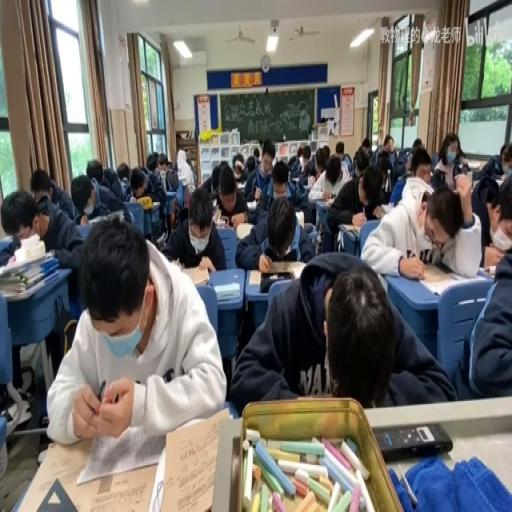calculator: (9, 432, 144, 510), (156, 405, 232, 509), (416, 260, 468, 294), (249, 260, 306, 282), (178, 260, 210, 284), (214, 282, 240, 300), (234, 222, 253, 240), (88, 213, 115, 225), (338, 222, 360, 235), (312, 195, 334, 206), (482, 264, 498, 278), (158, 171, 168, 192), (498, 171, 510, 186), (294, 210, 303, 228), (212, 206, 222, 222), (379, 202, 392, 213), (177, 174, 189, 184), (234, 180, 246, 190), (246, 201, 258, 209), (149, 201, 159, 209), (308, 175, 314, 188), (211, 196, 217, 206), (290, 176, 300, 181)
paper: (230, 250, 448, 411), (3, 182, 85, 404), (454, 182, 512, 400), (234, 185, 314, 269), (162, 182, 226, 270), (326, 158, 386, 243), (73, 170, 126, 228), (32, 166, 76, 222), (246, 138, 276, 206), (0, 189, 37, 243), (431, 132, 466, 189), (472, 142, 507, 184), (367, 135, 396, 182), (407, 145, 432, 181), (296, 144, 318, 182), (198, 162, 218, 201), (388, 165, 406, 206), (270, 161, 290, 196), (354, 138, 373, 171), (0, 237, 18, 265), (130, 166, 146, 196), (86, 158, 104, 183), (314, 145, 329, 175), (325, 158, 341, 186), (232, 152, 245, 181), (115, 161, 129, 186), (146, 151, 159, 172), (286, 152, 298, 174), (340, 152, 352, 174), (245, 154, 255, 172), (500, 154, 510, 172), (334, 141, 344, 158), (184, 158, 194, 175), (458, 158, 468, 173), (411, 138, 422, 149), (253, 148, 259, 161), (166, 158, 172, 171)
person: (374, 422, 452, 462), (463, 168, 472, 185)
